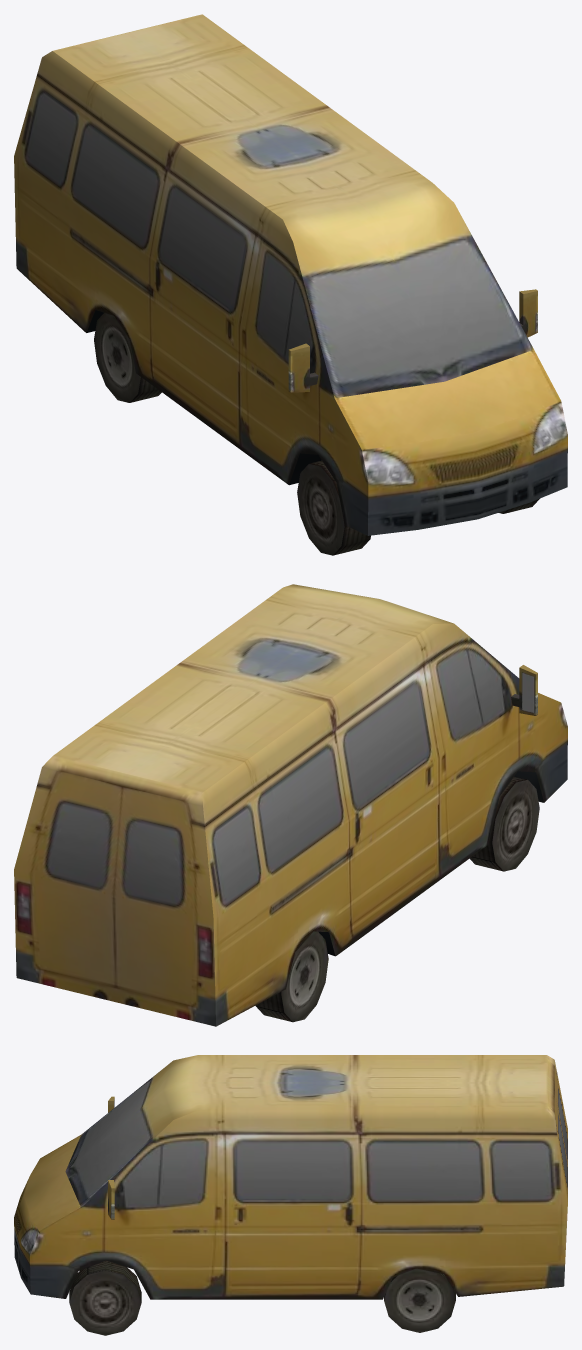
Rendered from minibus_yellow.glb.
The picture shows the model from 3 angles, top to bottom: view 1: azimuth 30°, elevation 25°; view 2: azimuth 150°, elevation 25°; view 3: azimuth 270°, elevation 25°; orthographic projection. The views are drawn at different scales.
Parts seen in each view (by area): view 1: Body; view 2: Body; view 3: Body.
Boxes of the visible parts, bbox=[...] form: Body: bbox=[14, 14, 567, 555]; Body: bbox=[14, 584, 567, 1026]; Body: bbox=[14, 1055, 567, 1335].
Bounding box in the file's own units: 2.37 × 2.6 × 6.06.
1 material, 1 textured.
